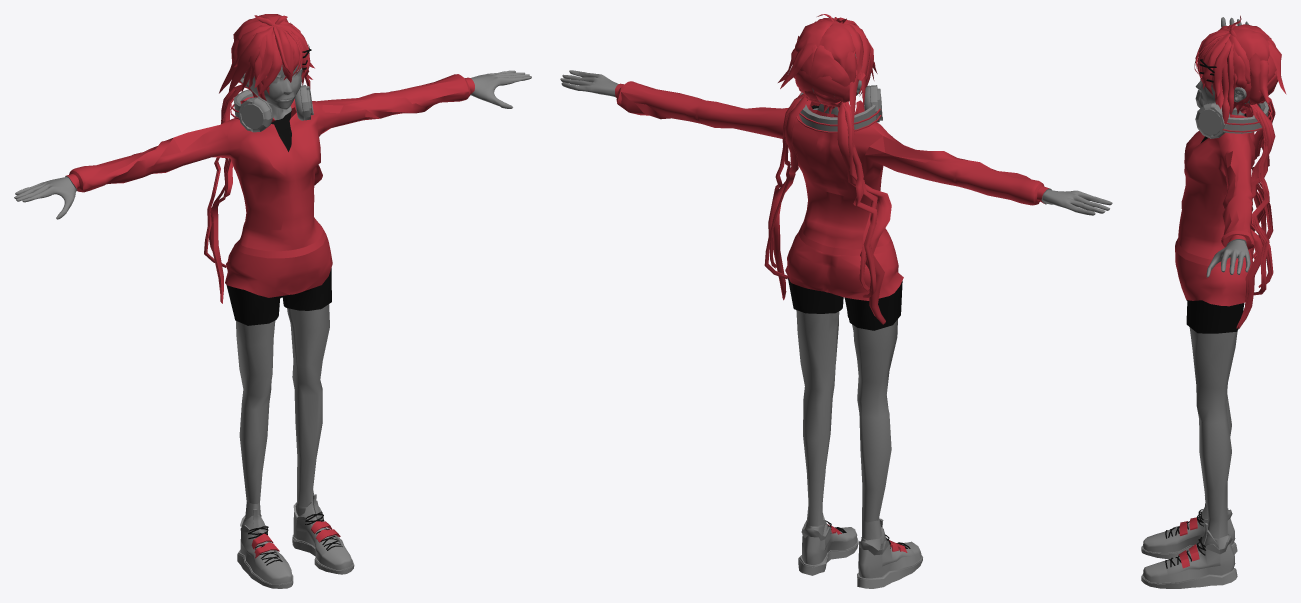
The model's file is SofiaTest.obj.
3 renders of one model, left to right at view 1: azimuth 30°, elevation 25°; view 2: azimuth 150°, elevation 25°; view 3: azimuth 270°, elevation 25°, orthographic. The views are drawn at different scales.
Parts seen in each view (by area): view 1: Sofia, Twintails, Headphones, Straps, Hair polySurface44; view 2: Sofia, Twintails, Headphones, Hair polySurface2, Hair polySurface3; view 3: Sofia, Twintails, Headphones, polySurface1 Hair, Hair polySurface9, Straps, Hair polySurface42, Hair polySurface51, Hair polySurface39, Hair polySurface40, Hair polySurface7, Shoelace1 (+5 smaller).
Part boxes in pixels (<box>): Sofia: <box>14,64,531,588</box>; Twintails: <box>204,84,322,303</box>; Headphones: <box>234,85,313,132</box>; Straps: <box>251,521,340,558</box>; Hair polySurface44: <box>228,26,272,92</box>; Sofia: <box>560,22,1112,588</box>; Twintails: <box>764,93,891,324</box>; Headphones: <box>799,85,882,131</box>; Hair polySurface2: <box>819,21,855,69</box>; Hair polySurface3: <box>810,45,850,86</box>; Sofia: <box>1141,17,1255,588</box>; Twintails: <box>1236,97,1275,328</box>; Headphones: <box>1195,89,1268,138</box>; polySurface1 Hair: <box>1233,29,1269,61</box>; Hair polySurface9: <box>1249,53,1261,104</box>; Straps: <box>1178,517,1199,568</box>; Hair polySurface42: <box>1212,38,1231,96</box>; Hair polySurface51: <box>1201,32,1230,88</box>; Hair polySurface39: <box>1227,43,1233,114</box>; Hair polySurface40: <box>1222,60,1229,124</box>; Hair polySurface7: <box>1233,48,1246,88</box>; Shoelace1: <box>1165,509,1205,568</box>.
Size of the model in its own units: 193 by 192 by 46.38.
